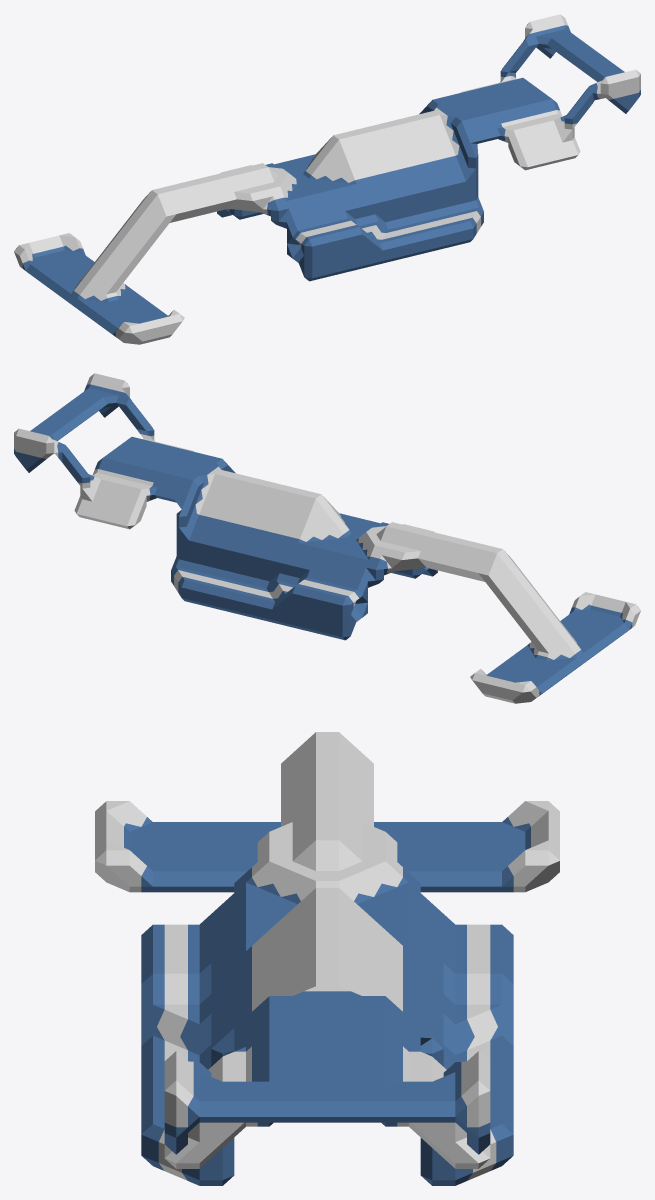
The model's file is f1_ice.fbx.
3 views of the same model, one above another, from view 1: azimuth 30°, elevation 25°; view 2: azimuth 150°, elevation 25°; view 3: azimuth 270°, elevation 25° (orthographic). The views are drawn at different scales.
Visible parts, largest first — view 1: f1_ice; view 2: f1_ice; view 3: f1_ice.
Boxes of the visible parts, x1=… form: f1_ice: x1=14, y1=14, x2=640, y2=344; f1_ice: x1=14, y1=373, x2=640, y2=703; f1_ice: x1=95, y1=732, x2=559, y2=1185.
Bounding box in the file's own units: 5300 × 1300 × 2000.
